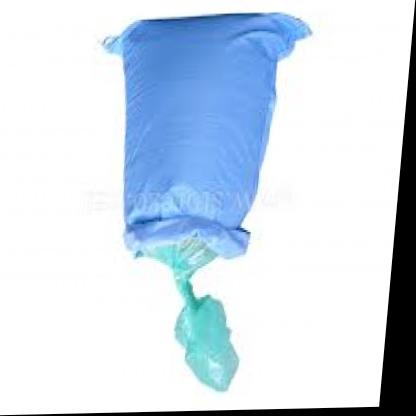Plastic: (70, 5, 316, 390)
